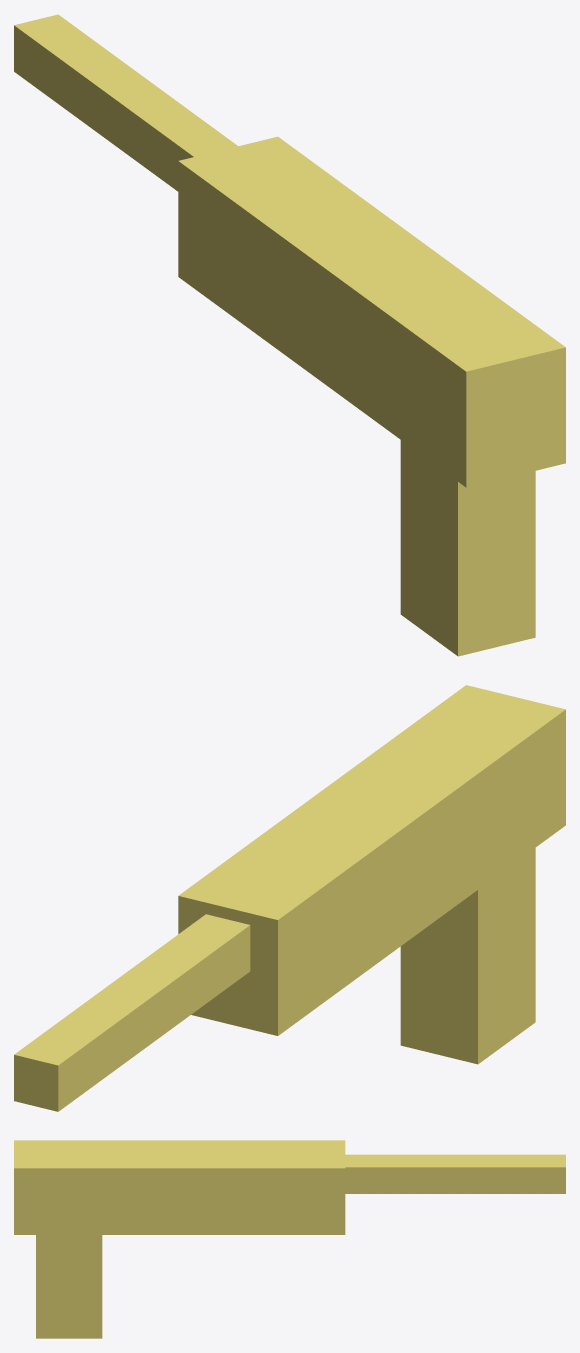
The model's file is fps-rig.glb.
The picture shows the model from 3 angles, top to bottom: view 1: azimuth 30°, elevation 25°; view 2: azimuth 150°, elevation 25°; view 3: azimuth 270°, elevation 25°; orthographic projection. The views are drawn at different scales.
Parts seen in each view (by area): view 1: Root; view 2: Root; view 3: Root.
Part boxes in pixels (<box>): Root: <box>14,14,565,656</box>; Root: <box>14,685,565,1111</box>; Root: <box>14,1140,565,1338</box>.
Size of the model in its own units: 0.09 by 0.26 by 0.75.
